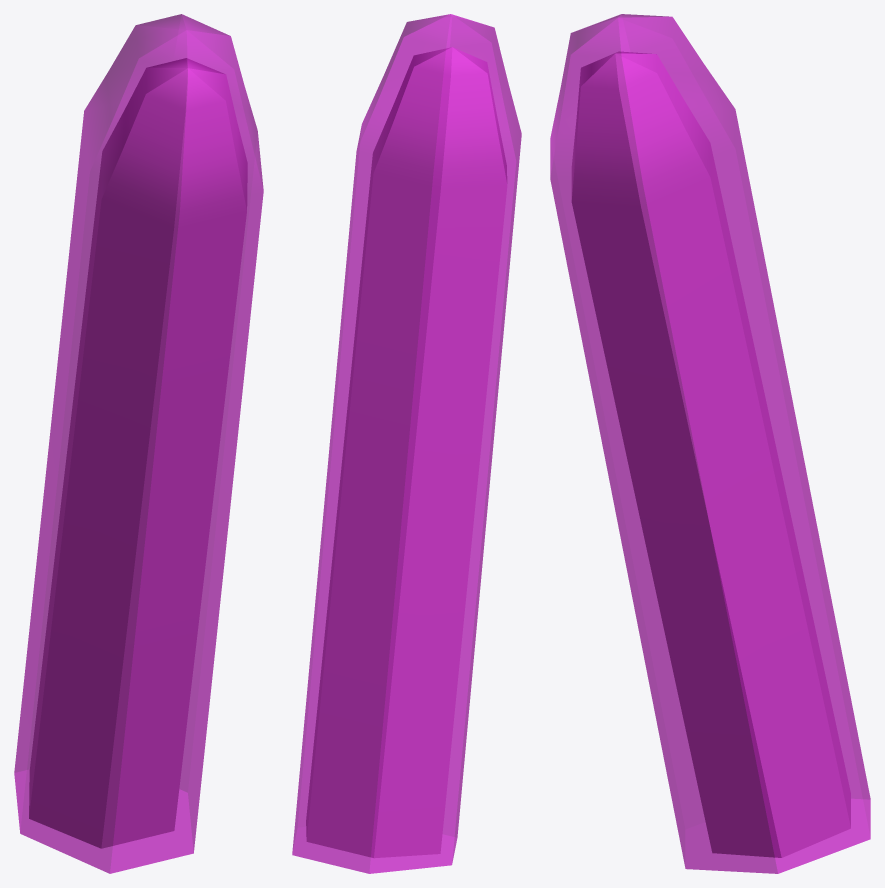
The model's file is crystal5.fbx.
3 views of the same model, side by side, from view 1: azimuth 30°, elevation 25°; view 2: azimuth 150°, elevation 25°; view 3: azimuth 270°, elevation 25° (orthographic). The views are drawn at different scales.
Parts seen in each view (by area): view 1: pCone13; view 2: pCone13; view 3: pCone13.
Boxes of the visible parts, x1=… form: pCone13: x1=14, y1=14, x2=263, y2=873; pCone13: x1=292, y1=14, x2=521, y2=873; pCone13: x1=550, y1=14, x2=870, y2=873.
Size of the model in its own units: 2.3 by 11.24 by 3.93.
